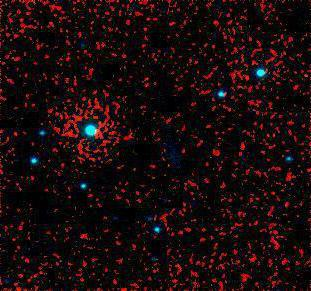star: (289, 61, 311, 91)
